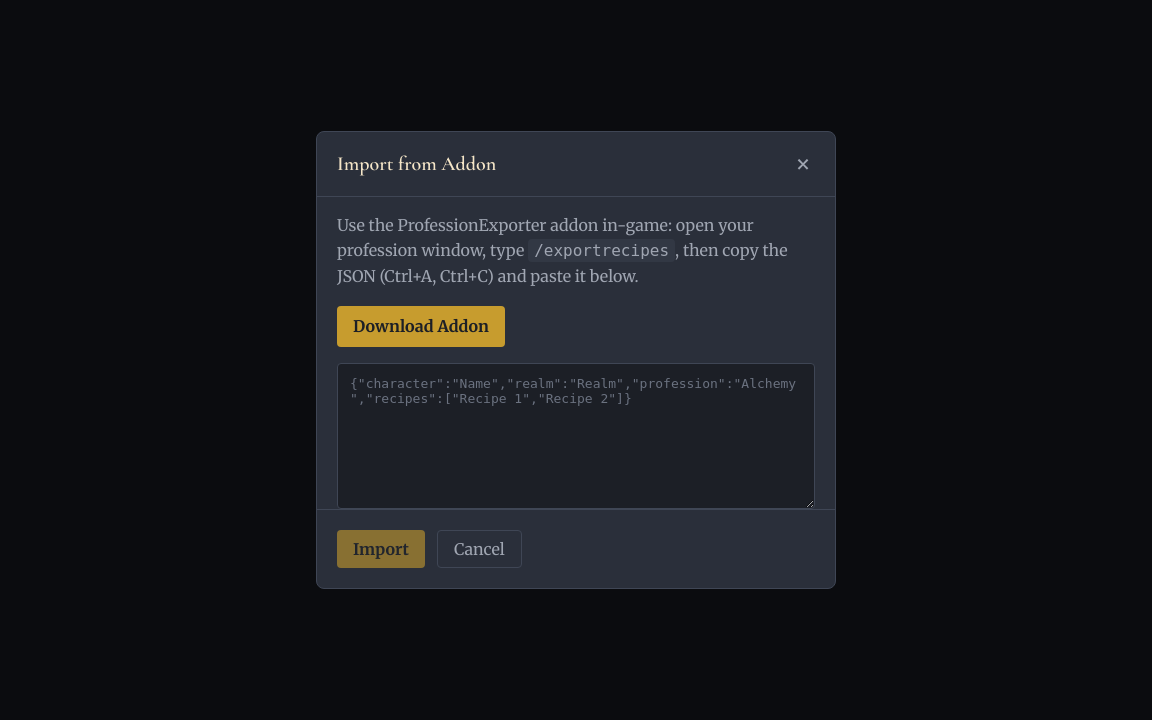
ImportRecipes › shows error for invalid JSON
Replace the text in the text box with placeholder "\"character\":\"Name\",\"realm\":\"Realm\"" with "not valid json": (576, 436) top-left (337, 363), bottom-right (815, 509)
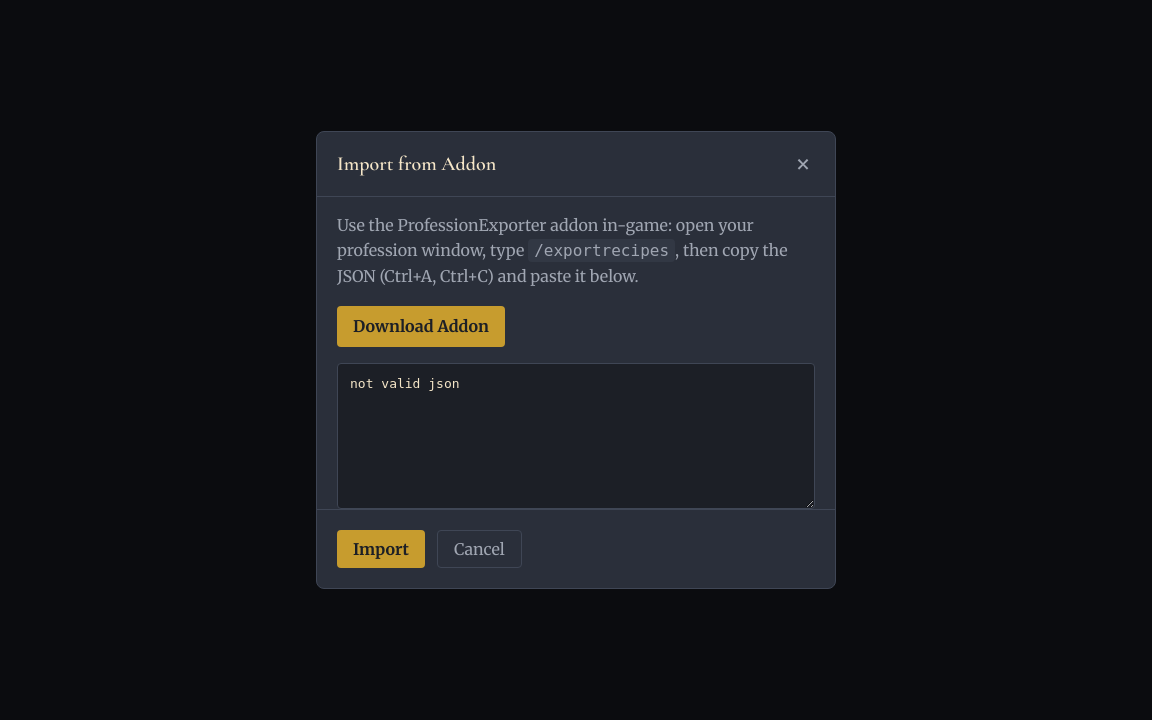
Click the button "Import": (381, 549) top-left (337, 530), bottom-right (425, 568)
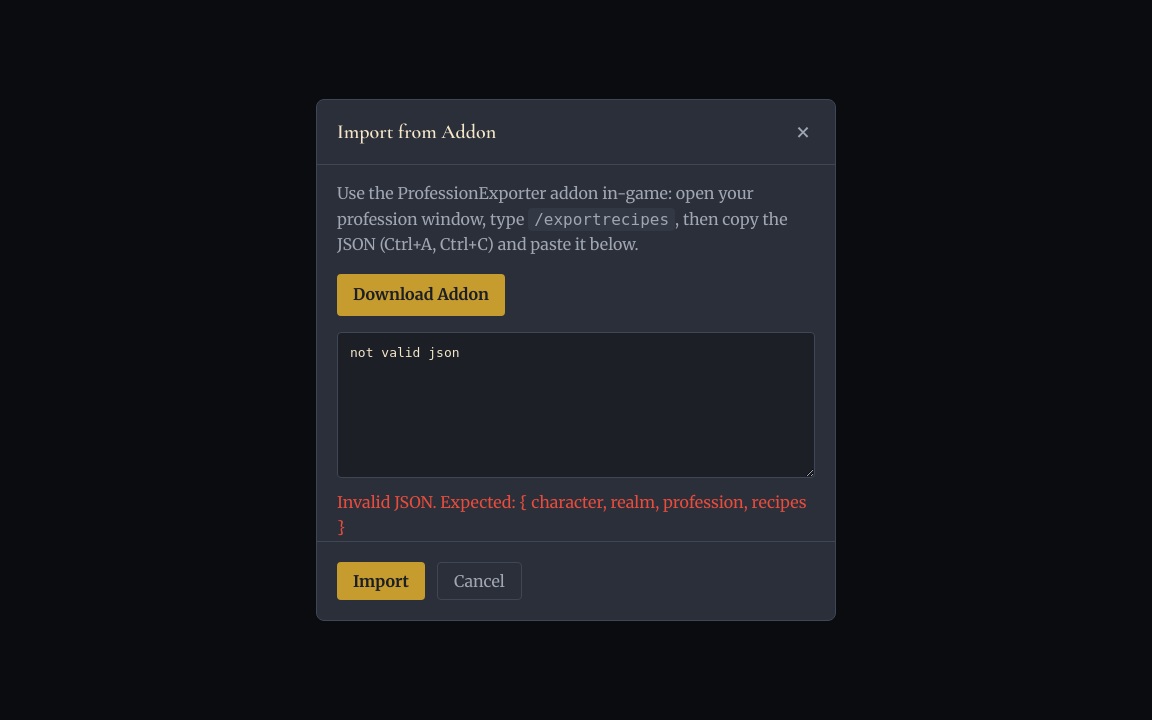
Expected: the text "Invalid JSON" is shown, top-left (337, 492), bottom-right (807, 537)
